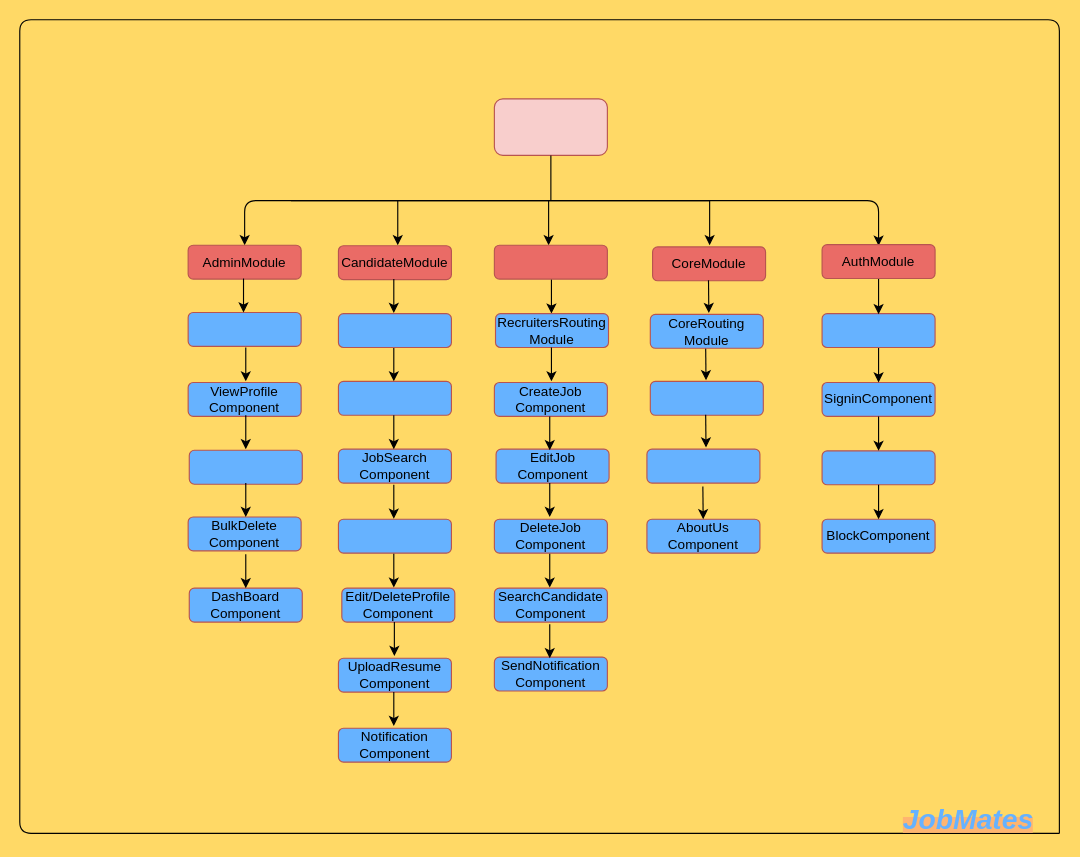
Image size: 1080x857. Some labels were removed from this diagram. Each missing label, with the box of its shape:
AdminRouting Module: (187, 311, 301, 346)
ApplyJob Component: (337, 518, 451, 553)
AuthRouting Module: (821, 312, 935, 347)
BulkUpload Component: (188, 449, 302, 484)
CandidateRouting Module: (337, 312, 451, 347)
HomeComponent: (649, 380, 763, 415)
NavHeader Componet: (646, 448, 760, 483)
RecruitersModule: (493, 244, 607, 279)
ReviewJob Component: (337, 380, 451, 415)
RootModule: (493, 98, 607, 155)
SignUpComponent: (821, 450, 935, 485)
